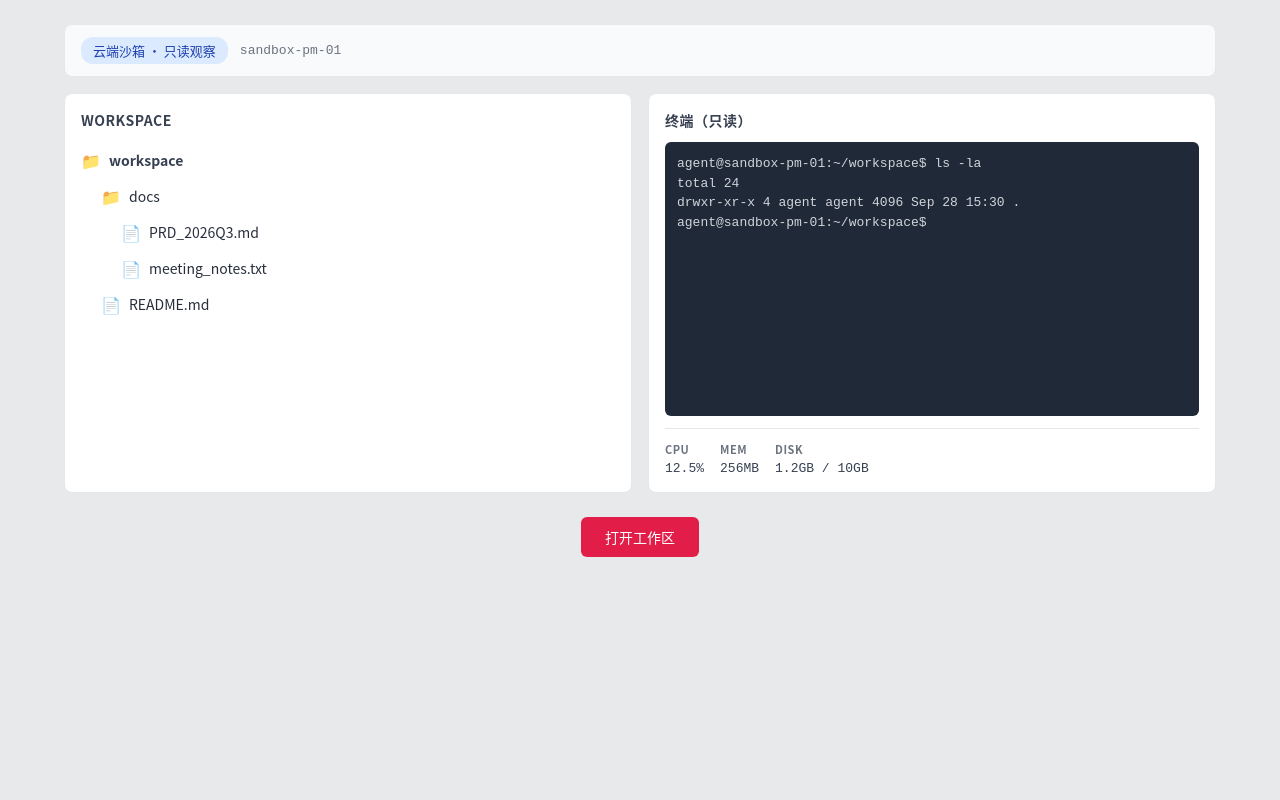
Test: Computer Contract Tests › should show toast when "打开工作区" button is clicked
Click the button "打开工作区": (640, 537) [581, 517, 699, 557]
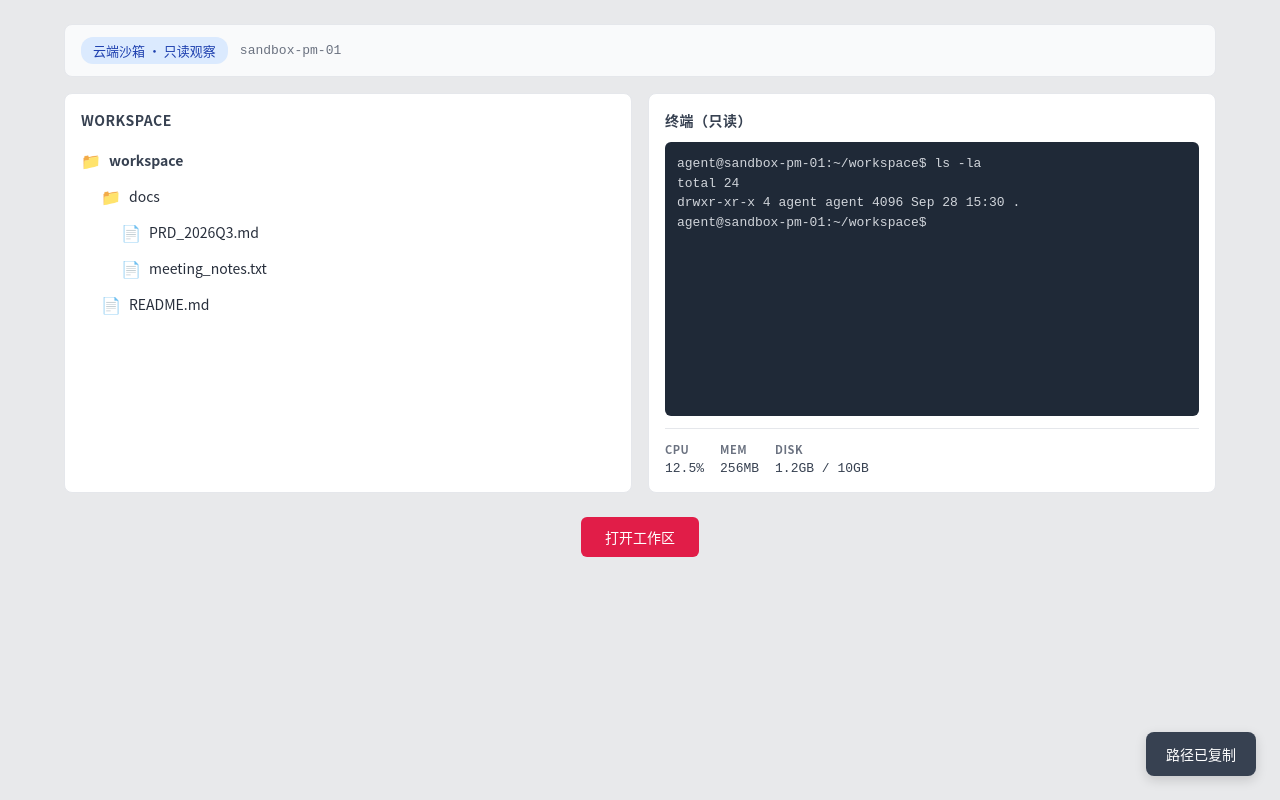
expect the text "路径已复制" is shown: met, box [1146, 732, 1256, 776]
